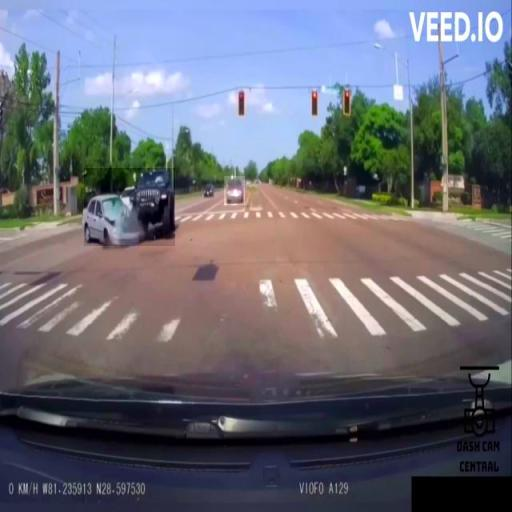小汽车: (224, 176, 245, 205)
小汽车撞小汽车: (84, 168, 175, 246)
